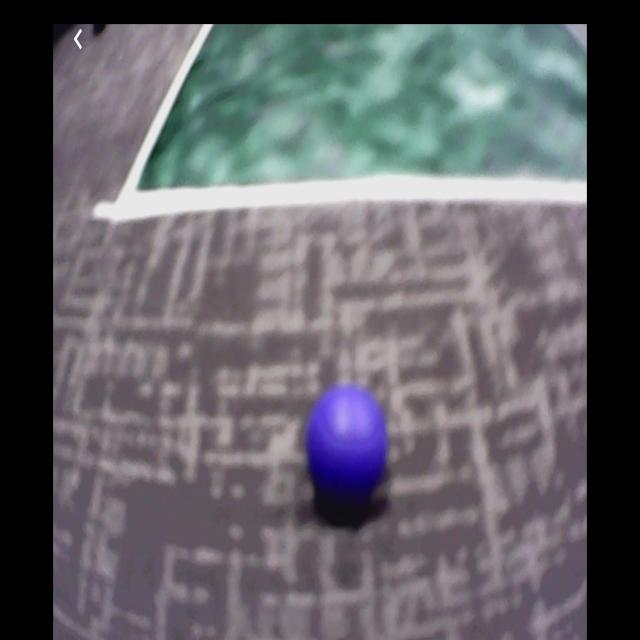ball: (306, 382, 389, 505)
